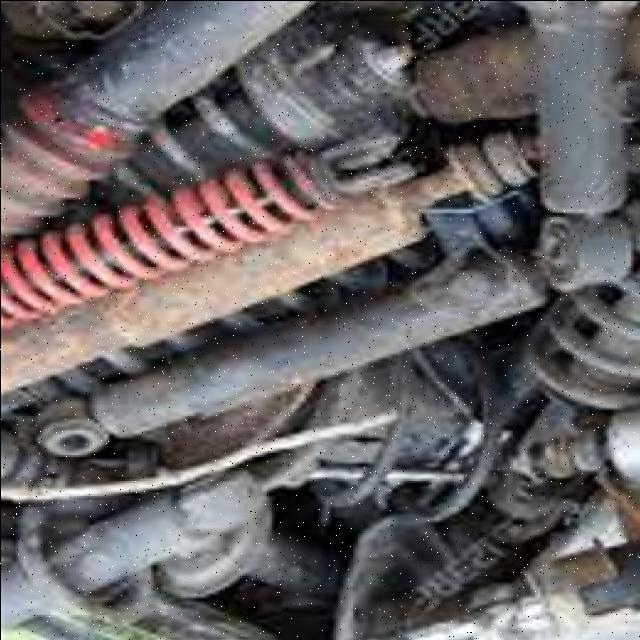shock absorber: (35, 246, 548, 456), (2, 121, 416, 336)
